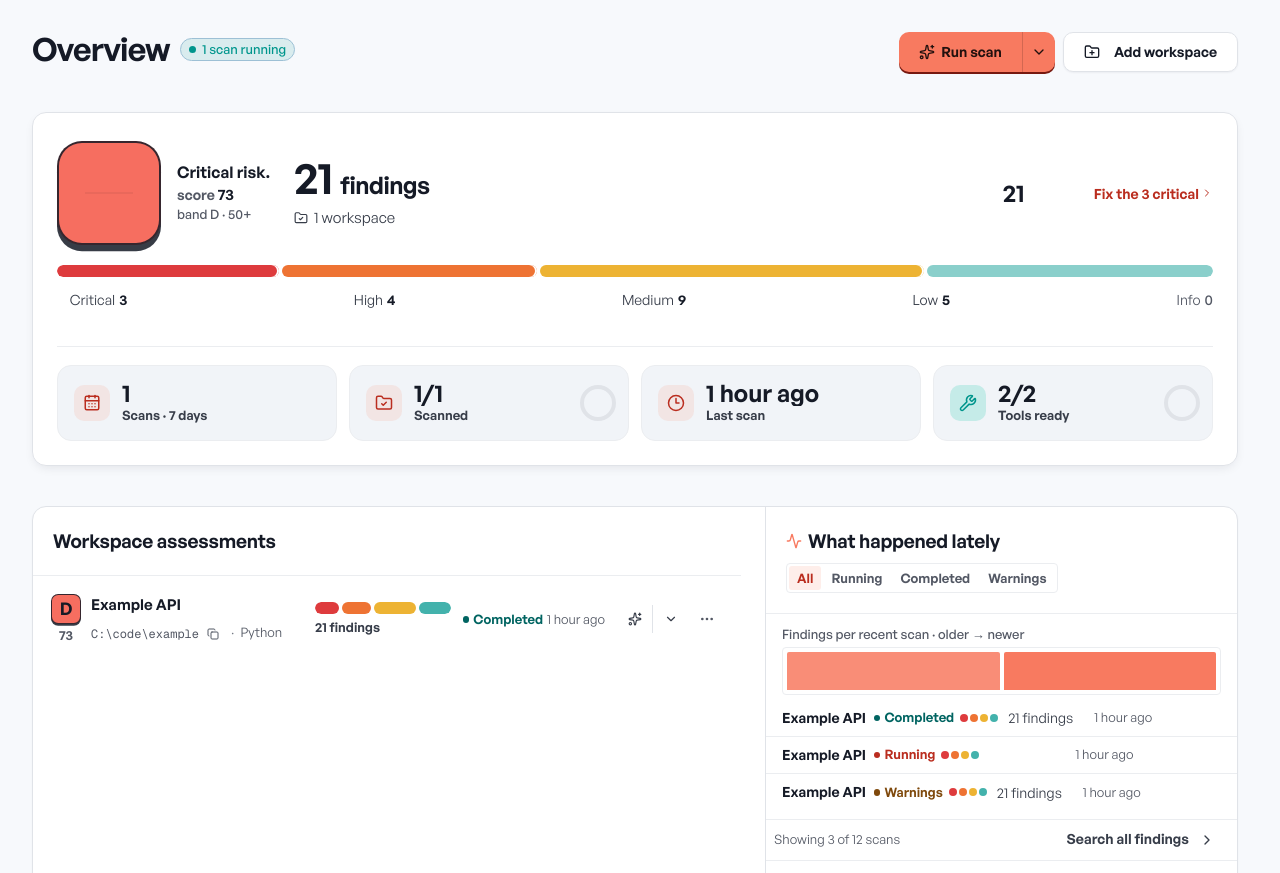
Test case: HomePage risk board — activity feed › filters the feed by status chip
Click the button with class "feed-filter-btn" showing "Running": click(857, 578) [823, 566, 890, 590]
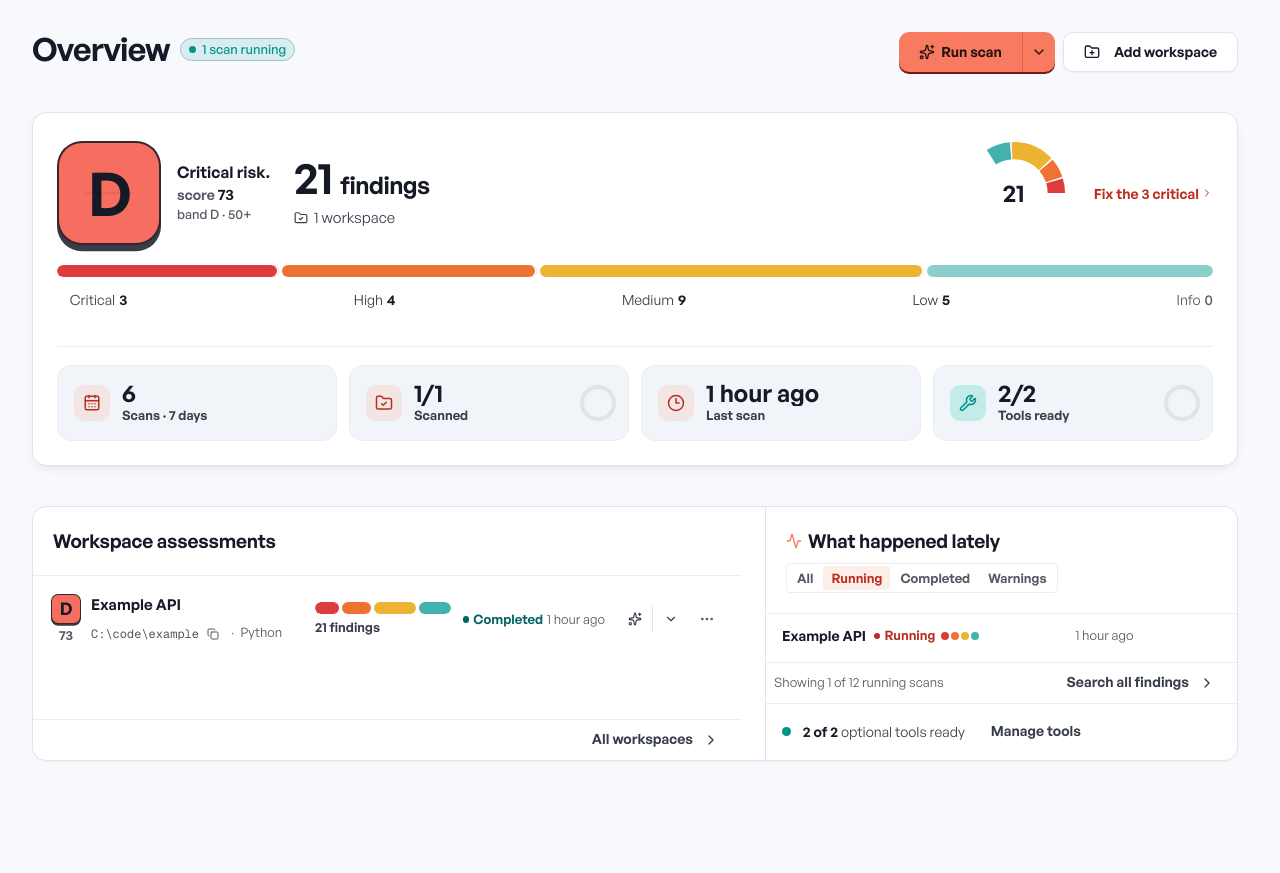
Expected: the element with class "state-accent" reads "Running", [884, 627, 935, 643]
Expected: the number of list items with class "feed-row" is 1, [766, 618, 1237, 654]
